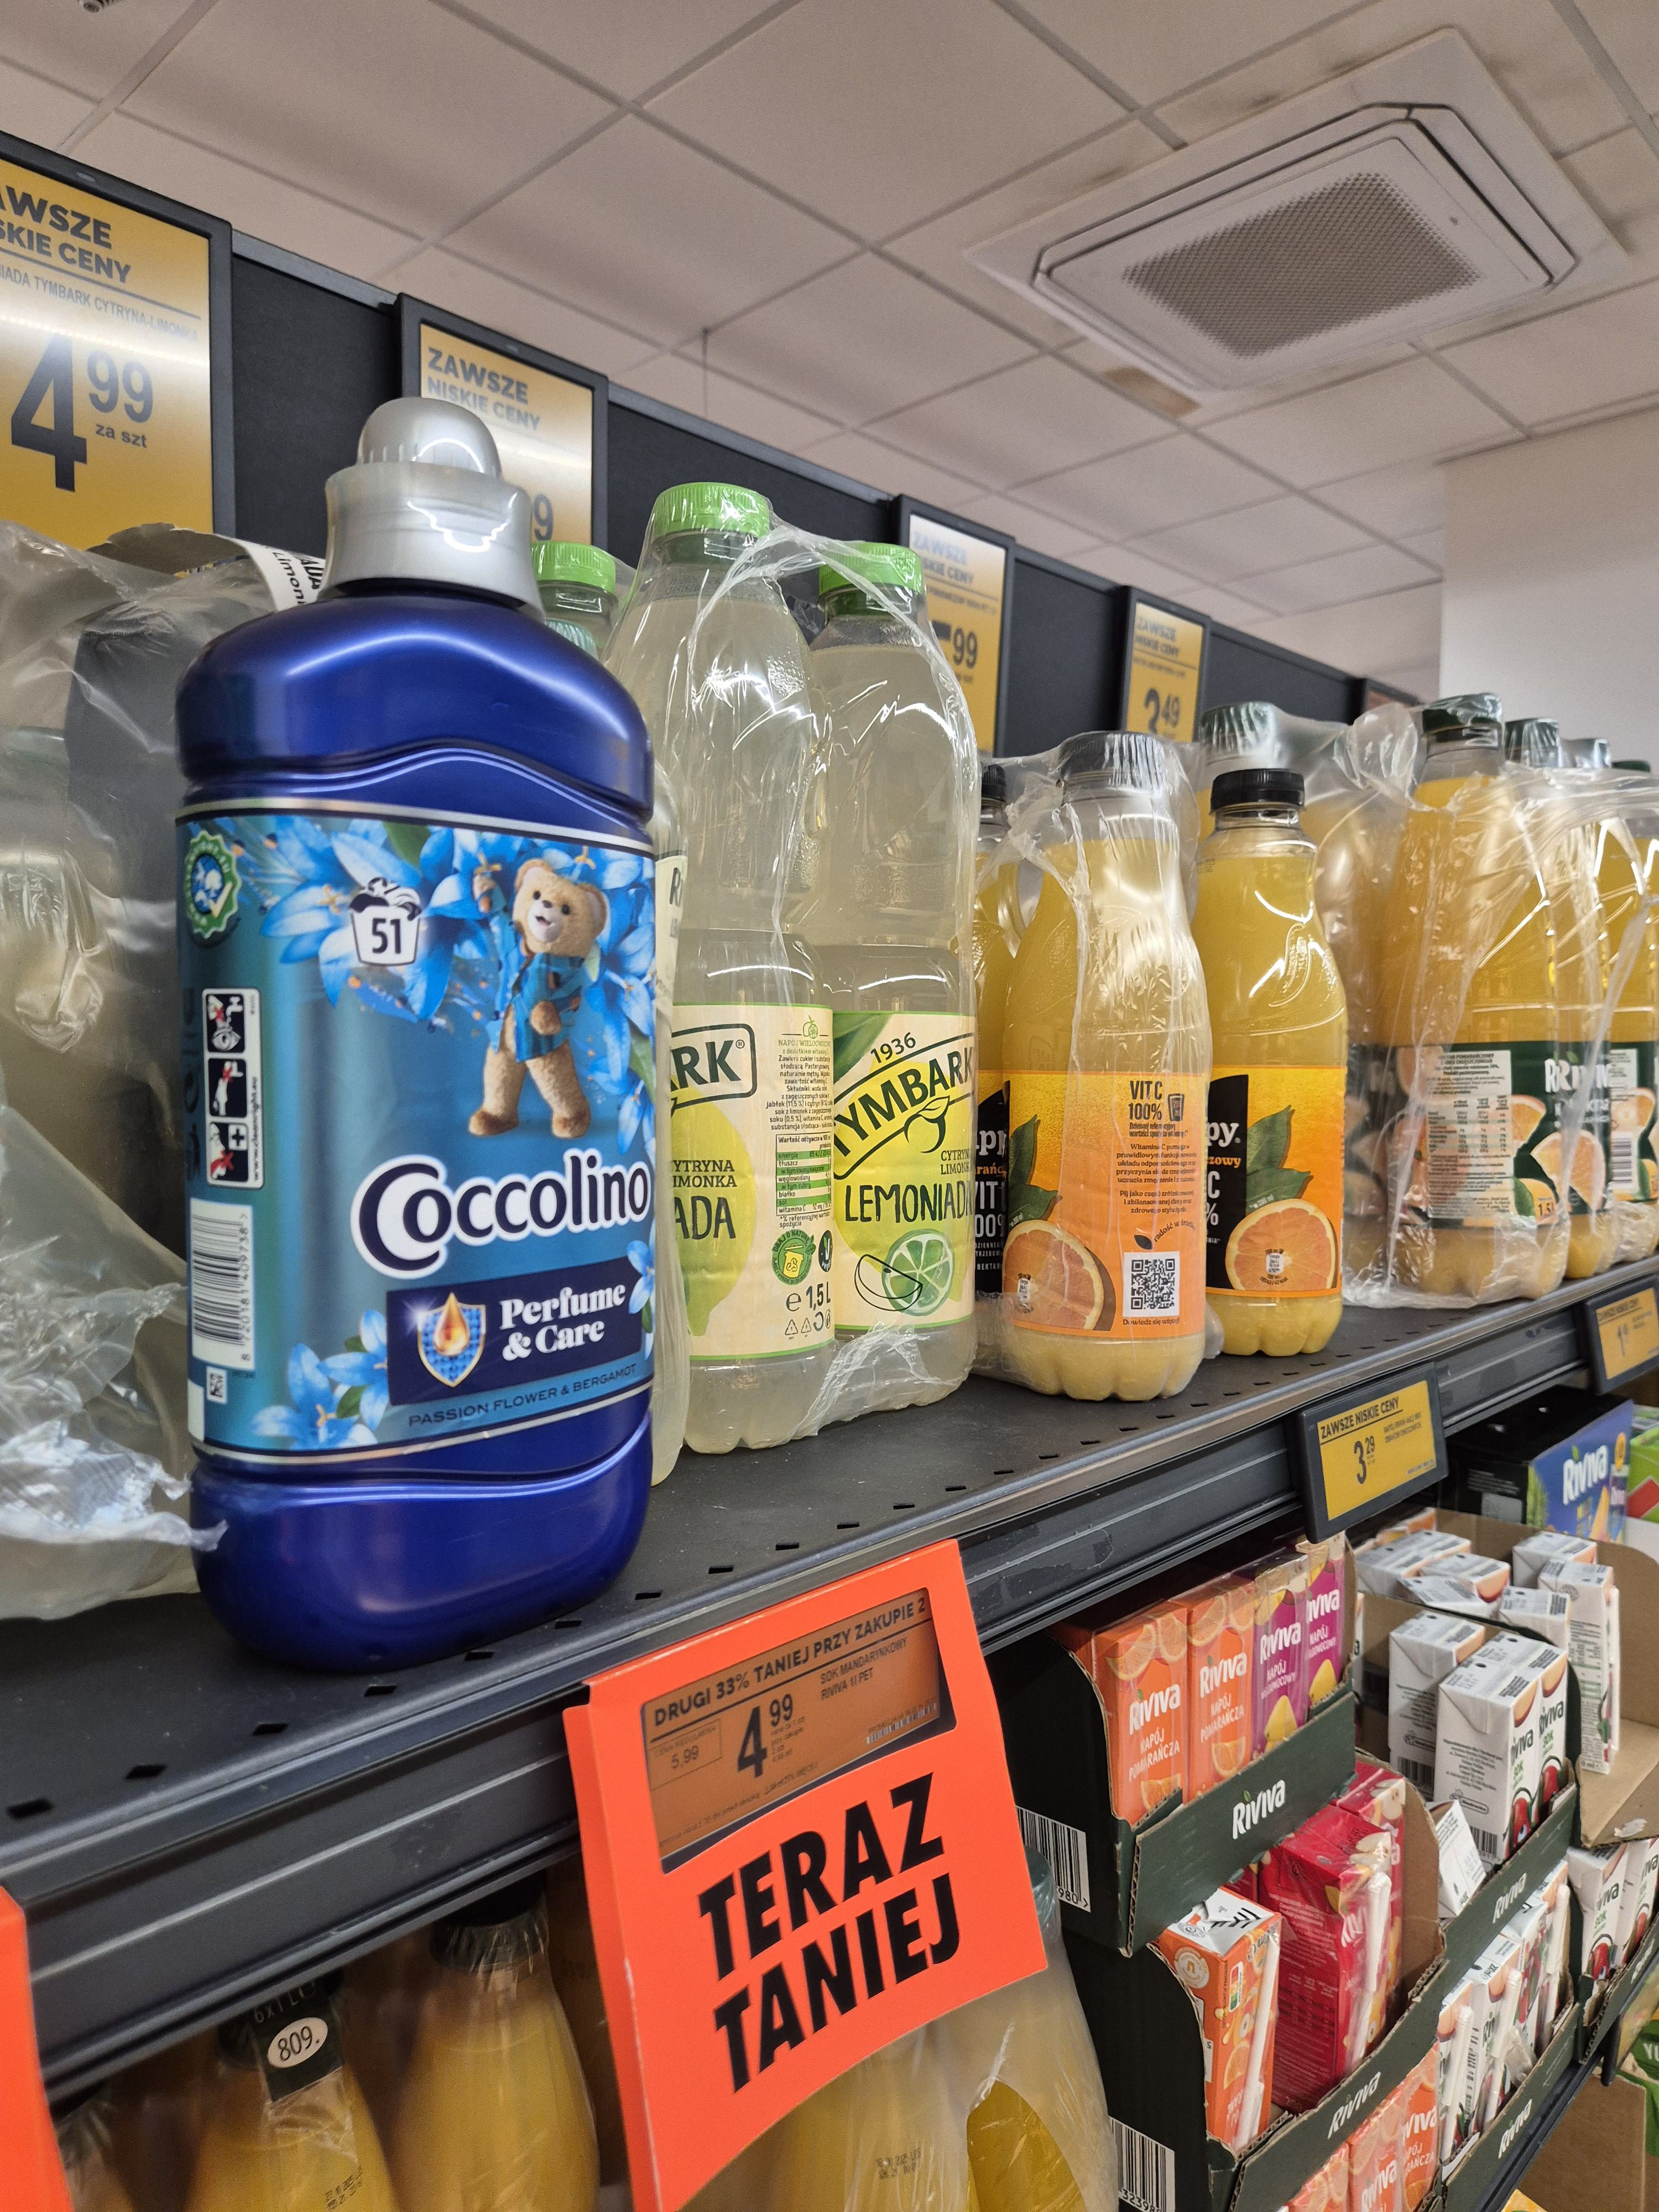cocolino: (183, 380, 683, 1665)
